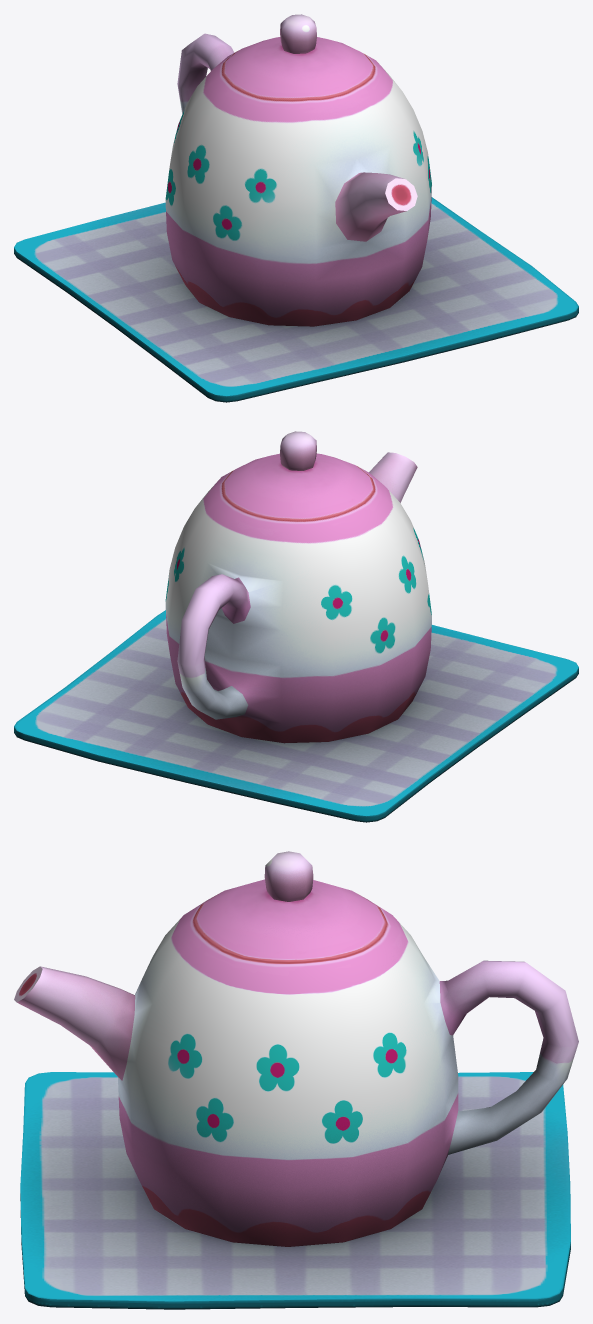
File: Kettle.fbx
3 renders of one model, top to bottom at view 1: azimuth 30°, elevation 25°; view 2: azimuth 150°, elevation 25°; view 3: azimuth 270°, elevation 25°, orthographic. The views are drawn at different scales.
Visible parts, largest first — view 1: 063; view 2: 063; view 3: 063.
Part boxes in pixels (box(x1,y1,x2,y2)): 063: box(14, 14, 578, 402); 063: box(14, 431, 578, 822); 063: box(14, 851, 578, 1309).
Bounding box in the file's own units: 57.24 × 39.3 × 59.51.
Materials: 1 (1 with a texture image).
